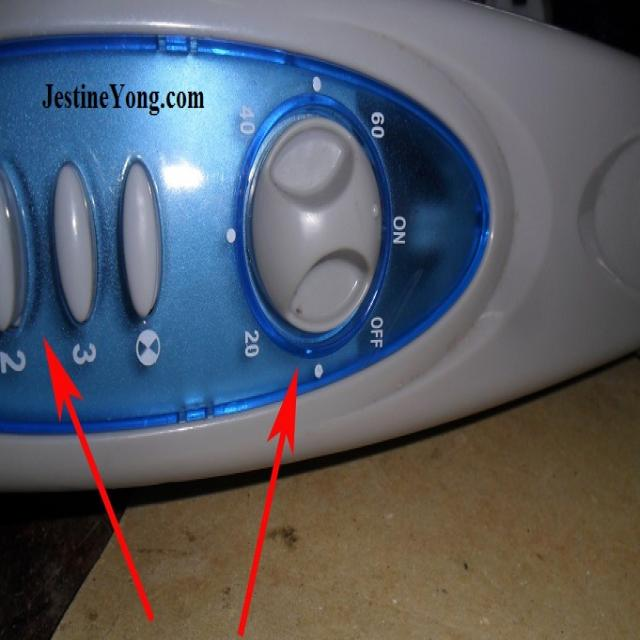electronics: (0, 1, 638, 486)
